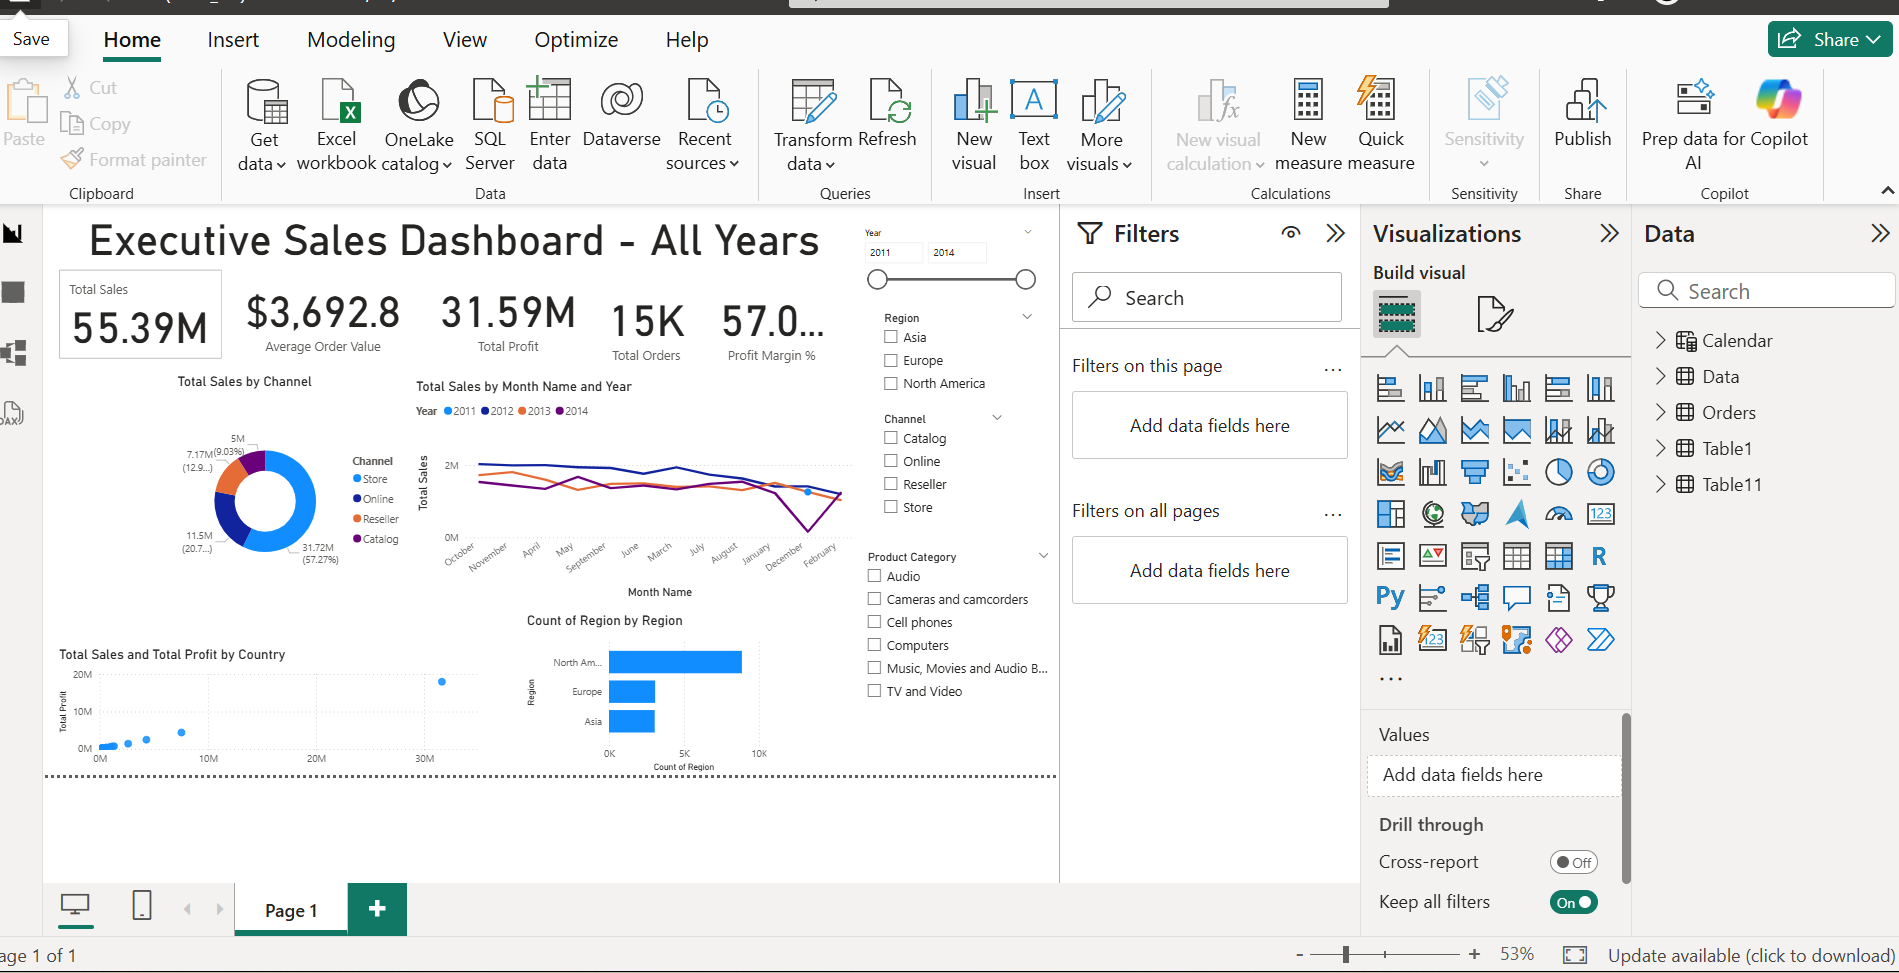

The page's visual inventory and layout, read from the dashboard file:
{"tool":"powerbi","page":{"name":"Page 1","canvas":[1280,720],"ordinal":0},"visuals":[{"type":"cardVisual","fields":{"Data":["Orders.Total Sales"]},"box":[15.1,77.5,215.4,122.8],"z":0},{"type":"card","fields":{"Values":["Orders.Average Order Value"]},"box":[230.6,77.5,243.8,124.7],"z":1},{"type":"card","fields":{"Values":["Orders.Total Profit"]},"box":[487.6,77.5,196.5,124.7],"z":2},{"type":"card","fields":{"Values":["Orders.Total Orders"]},"box":[684.1,88.8,151.2,124.7],"z":3},{"type":"card","fields":{"Values":["Orders.Profit Margin %"]},"box":[835.3,88.8,164.4,124.7],"z":4},{"type":"lineChart","fields":{"Category":["Calendar.Month Name"],"Y":["Orders.Total Sales"],"Series":["Calendar.Year"]},"box":[464.9,219.2,561.3,281.6],"z":5},{"type":"clusteredBarChart","fields":{"Category":["Orders.Region"],"Y":["CountNonNull(Orders.Region)"]},"box":[604.7,514,311.8,206],"z":6},{"type":"donutChart","fields":{"Category":["Orders.Channel"],"Y":["Orders.Total Sales"]},"box":[164.4,213.5,300.5,300.5],"z":7},{"type":"scatterChart","fields":{"X":["Orders.Total Sales"],"Y":["Orders.Total Profit"],"Category":["Orders.Country"]},"box":[15.1,557.5,549.9,158.7],"z":8},{"type":"slicer","fields":{"Values":["Calendar.Year"]},"box":[1022.4,24.6,236.2,105.8],"z":9},{"type":"slicer","fields":{"Values":["Orders.Region"]},"box":[1046.9,130.4,211.7,126.6],"z":10},{"type":"slicer","fields":{"Values":["Orders.Channel"]},"box":[1046.9,257,173.9,158.7],"z":11},{"type":"slicer","fields":{"Values":["Orders.Product Category"]},"box":[1026.1,430.9,253.2,213.5],"z":12},{"type":"card","fields":{"Values":["Calendar.Dashboard Title"]},"box":[35.9,18.9,963.8,58.6],"z":13}]}

Visuals, with their boxes on the page's 1280x720 design canvas (x1, y1, x2, y2). These are canvas units, not pixel positions in the 1899x973 screenshot, which may show the page scaled, cropped or inside an application window:
cardVisual - Orders.Total Sales: bbox(15, 78, 230, 200)
card - Orders.Average Order Value: bbox(231, 78, 474, 202)
card - Orders.Total Profit: bbox(488, 78, 684, 202)
card - Orders.Total Orders: bbox(684, 89, 835, 214)
card - Orders.Profit Margin %: bbox(835, 89, 1000, 214)
lineChart - Calendar.Month Name x Orders.Total Sales: bbox(465, 219, 1026, 501)
clusteredBarChart - Orders.Region x CountNonNull(Orders.Region): bbox(605, 514, 916, 720)
donutChart - Orders.Channel x Orders.Total Sales: bbox(164, 214, 465, 514)
scatterChart - Orders.Total Sales x Orders.Total Profit: bbox(15, 558, 565, 716)
slicer - Calendar.Year: bbox(1022, 25, 1259, 130)
slicer - Orders.Region: bbox(1047, 130, 1259, 257)
slicer - Orders.Channel: bbox(1047, 257, 1221, 416)
slicer - Orders.Product Category: bbox(1026, 431, 1279, 644)
card - Calendar.Dashboard Title: bbox(36, 19, 1000, 78)
